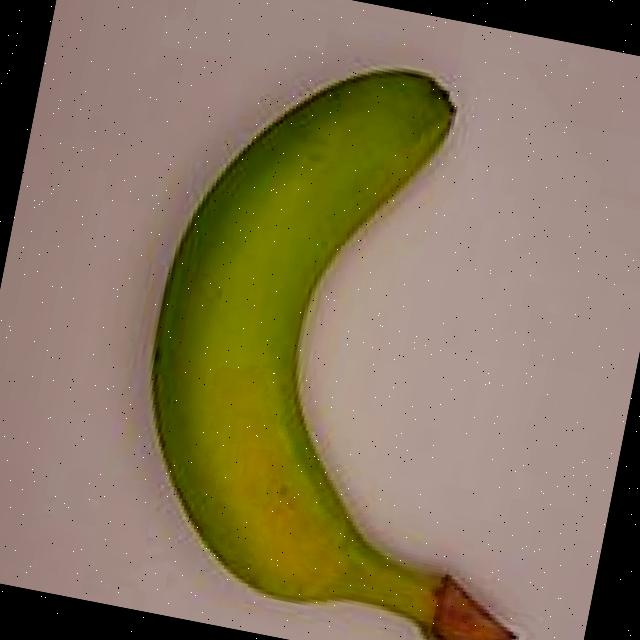Unripe: (77, 6, 638, 640)
